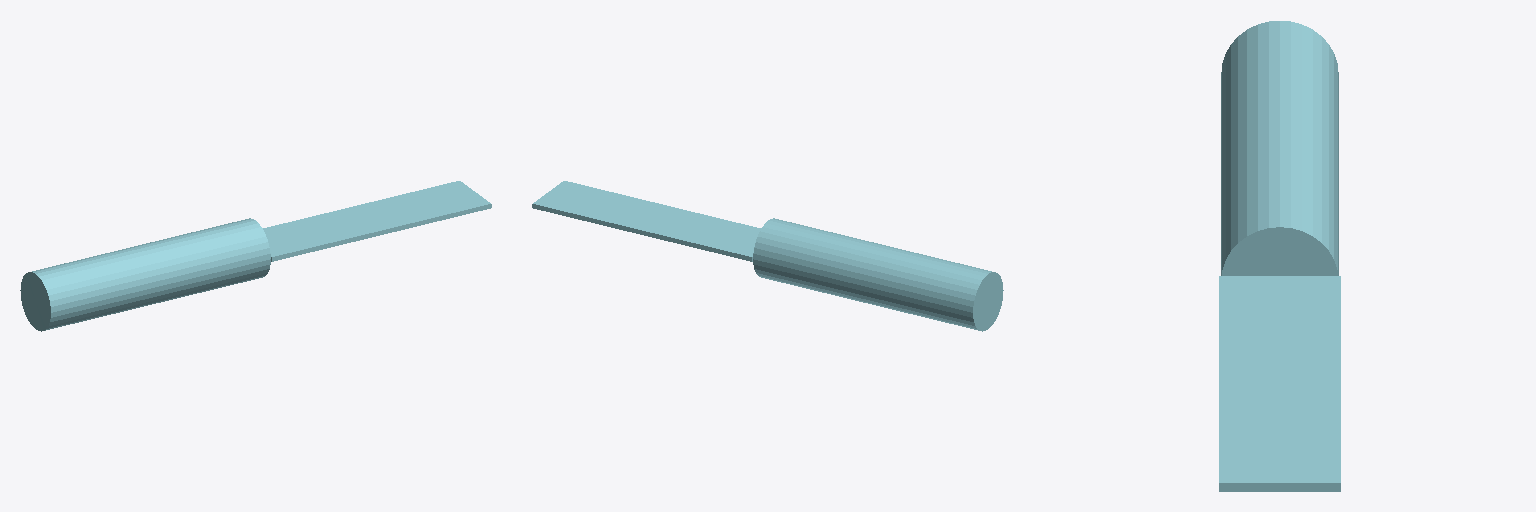
The robot description file, URDF, robot "paring_knife":
<?xml version="1.0"?>
<robot name="paring_knife">

  <link name="paring_knife">
    <!-- Handle -->
    <visual>
      <origin xyz="0 0 0" rpy="0 1.5707963267948966 0"/>
      <geometry>
        <cylinder length="0.1" radius="0.012"/>
      </geometry>
      <material name="material">
        <color rgba="0.639 0.847 0.882 1.0"/>
      </material>
    </visual>
    <collision>
      <origin xyz="0 0 0" rpy="0 1.5707963267948966 0"/>
      <geometry>
        <cylinder length="0.1" radius="0.012"/>
      </geometry>
    </collision>

    <!-- Head -->
    <visual>
      <origin xyz="0.1 0 0" rpy="0 0 0"/>
      <geometry>
        <box size="0.1 0.025 0.002"/>
      </geometry>
      <material name="material">
        <color rgba="0.639 0.847 0.882 1.0"/>
      </material>
    </visual>
    <collision>
      <origin xyz="0.1 0 0" rpy="0 0 0"/>
      <geometry>
        <box size="0.1 0.025 0.002"/>
      </geometry>
    </collision>

    <inertial>
      <density value="400.0"/>
    </inertial>
  </link>

</robot>

--- Facts derived from the render (not from the file) ---
Views: 3 orthographic renders of the robot side by side, from view 1: azimuth 30°, elevation 25°; view 2: azimuth 150°, elevation 25°; view 3: azimuth 270°, elevation 25°.
Model paring_knife with 1 links and 0 joints (none), rooted at paring_knife, posed all joints at 0.
Visible links, largest first — view 1: paring_knife; view 2: paring_knife; view 3: paring_knife.
Boxes of the visible links, x1,y1,x2,y2 form: paring_knife: (20, 181, 491, 331); paring_knife: (532, 181, 1003, 331); paring_knife: (1219, 21, 1340, 491).
Size in the robot's own frame: 0.2 by 0.025 by 0.024 metres.
Geometry: primitives only (box / cylinder / sphere), no mesh files.
